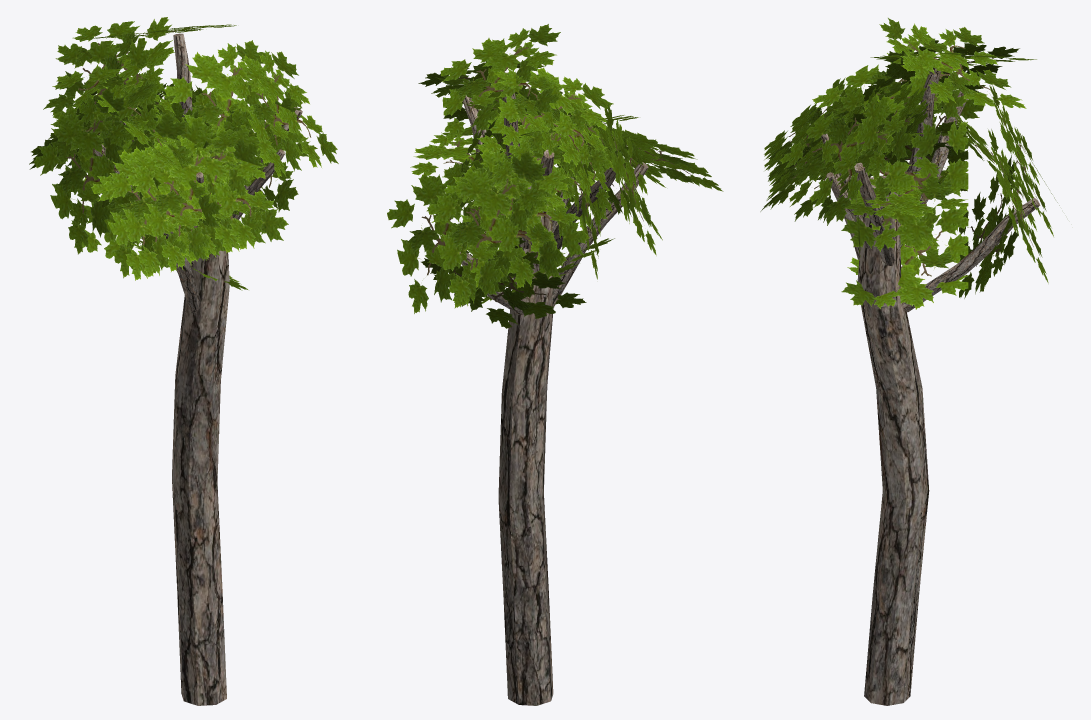
Rendered from TreeOne 1.fbx.
The picture shows the model from 3 angles, left to right: view 1: azimuth 30°, elevation 25°; view 2: azimuth 150°, elevation 25°; view 3: azimuth 270°, elevation 25°; orthographic projection.
Parts seen in each view (by area): view 1: polySurface1, pPlane26, pPlane10, pPlane23, pPlane21, pPlane8, pPlane9, pPlane22, pPlane11, pPlane12, pPlane13, pPlane7 (+5 smaller); view 2: polySurface1, pPlane18, pPlane20, pPlane24, pPlane21, pPlane16, pPlane17, pPlane19, pPlane22, pPlane26, pPlane12, pPlane1 (+5 smaller); view 3: polySurface1, pPlane23, pPlane4, pPlane20, pPlane2, pPlane19, pPlane1, pPlane25, pPlane24, pPlane22, pPlane17, pPlane8 (+8 smaller).
Part boxes in pixels (left/top/right/bottom): polySurface1: left=94, top=33, right=302, bottom=705; pPlane26: left=34, top=87, right=160, bottom=254; pPlane10: left=127, top=129, right=265, bottom=271; pPlane23: left=229, top=50, right=338, bottom=176; pPlane21: left=43, top=17, right=174, bottom=115; pPlane8: left=164, top=40, right=305, bottom=166; pPlane9: left=174, top=124, right=288, bottom=267; pPlane22: left=50, top=38, right=162, bottom=164; pPlane11: left=103, top=137, right=239, bottom=277; pPlane12: left=91, top=138, right=225, bottom=280; pPlane13: left=83, top=111, right=222, bottom=278; pPlane7: left=194, top=96, right=301, bottom=217; polySurface1: left=459, top=72, right=648, bottom=705; pPlane18: left=427, top=155, right=566, bottom=308; pPlane20: left=440, top=24, right=561, bottom=143; pPlane24: left=387, top=159, right=511, bottom=313; pPlane21: left=497, top=67, right=613, bottom=175; pPlane16: left=444, top=138, right=589, bottom=287; pPlane17: left=437, top=151, right=564, bottom=305; pPlane19: left=421, top=237, right=586, bottom=328; pPlane22: left=541, top=75, right=617, bottom=215; pPlane26: left=604, top=102, right=656, bottom=255; pPlane12: left=597, top=125, right=723, bottom=191; pPlane1: left=410, top=126, right=533, bottom=190; polySurface1: left=821, top=67, right=1040, bottom=705; pPlane23: left=779, top=85, right=913, bottom=225; pPlane4: left=841, top=120, right=968, bottom=252; pPlane20: left=879, top=18, right=1026, bottom=108; pPlane2: left=841, top=206, right=968, bottom=309; pPlane19: left=959, top=155, right=1018, bottom=298; pPlane1: left=845, top=161, right=968, bottom=217; pPlane25: left=812, top=48, right=967, bottom=153; pPlane24: left=988, top=129, right=1048, bottom=283; pPlane22: left=868, top=40, right=1019, bottom=113; pPlane17: left=989, top=85, right=1053, bottom=236; pPlane8: left=832, top=84, right=929, bottom=198.
Bounding box in the file's own units: 31.04 × 78.53 × 34.17.
Materials: 2 (2 with a texture image).
